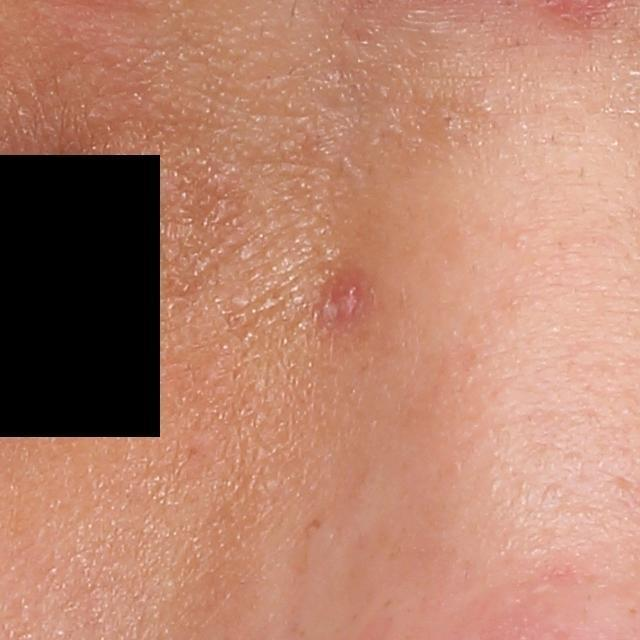papule: (321, 276, 362, 325)
